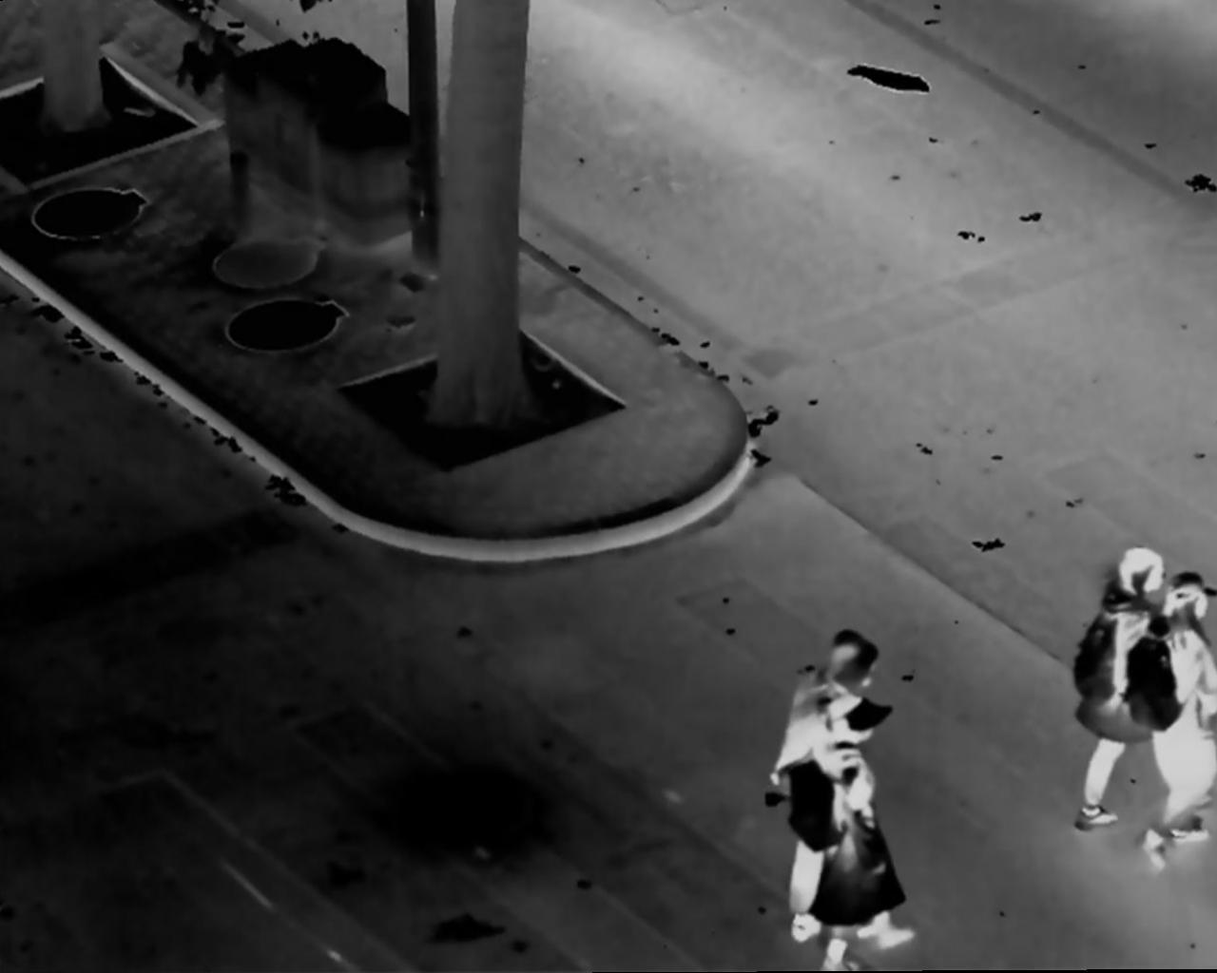person: (781, 618, 879, 934), (820, 686, 917, 973), (1075, 540, 1169, 835), (1135, 564, 1217, 874)
